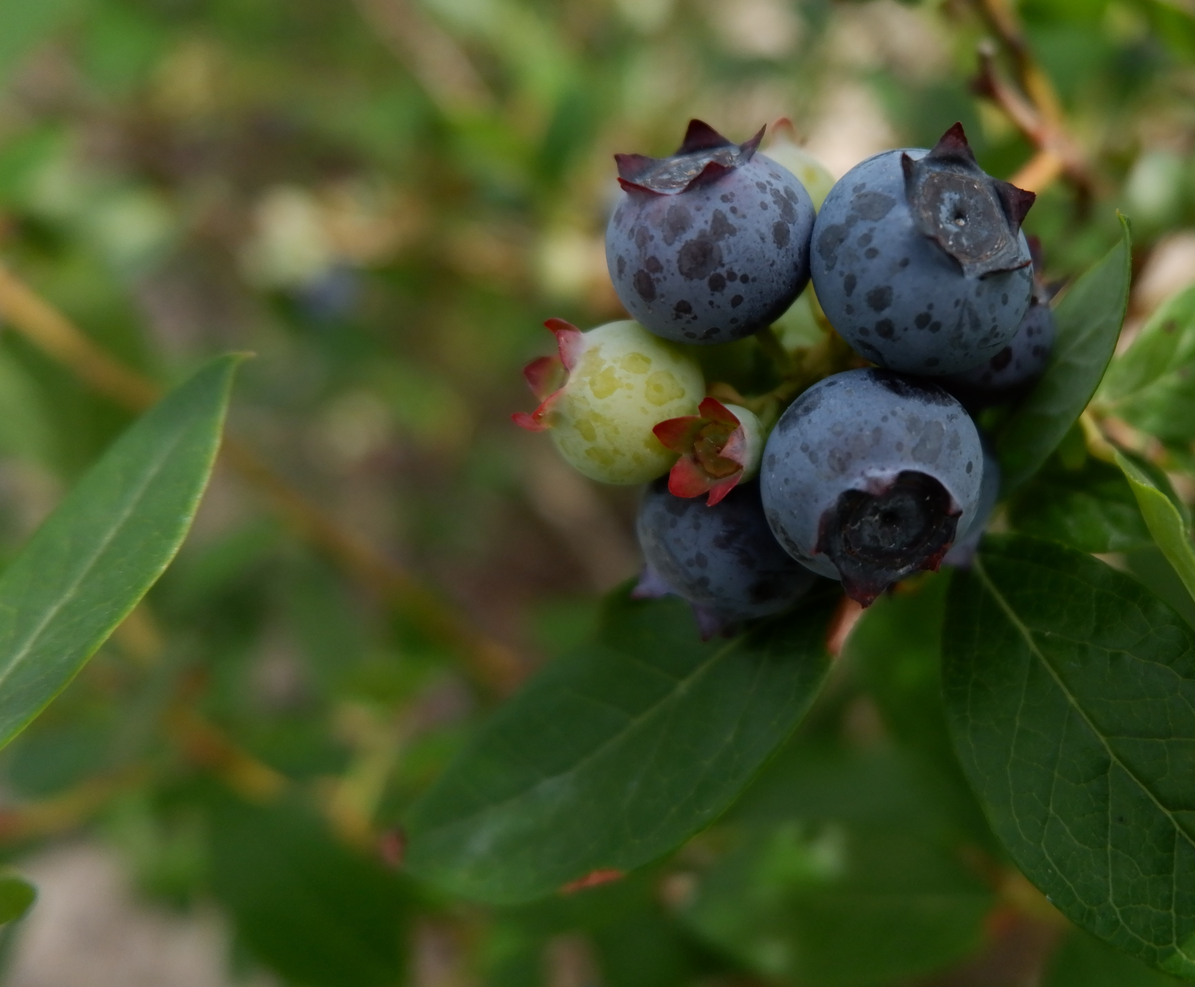Immature: (529, 323, 705, 480), (675, 399, 765, 494), (762, 119, 829, 201)
Mature: (818, 137, 1034, 371), (772, 368, 982, 592), (612, 136, 812, 341), (643, 480, 819, 615), (964, 282, 1055, 395)
